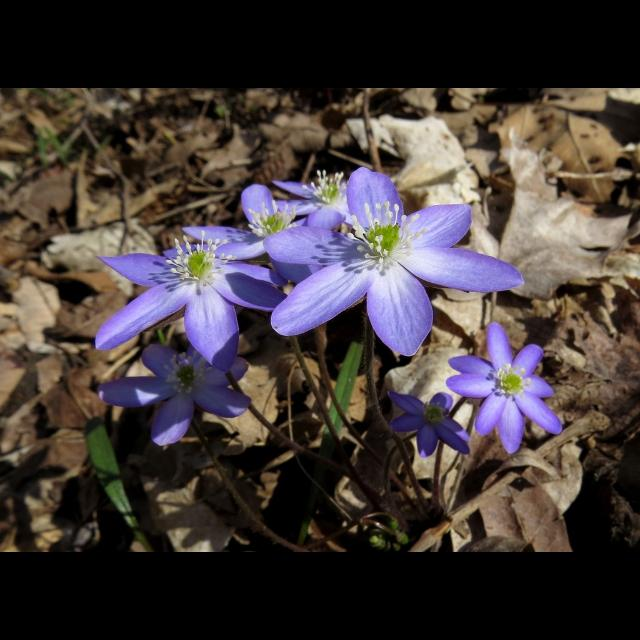Flower: (234, 160, 522, 344), (94, 247, 290, 375), (443, 322, 561, 458), (95, 344, 251, 446), (180, 183, 328, 287), (384, 388, 472, 459), (273, 170, 355, 230)
